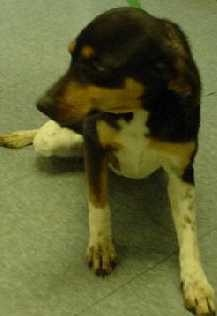dog: (35, 3, 208, 278)
